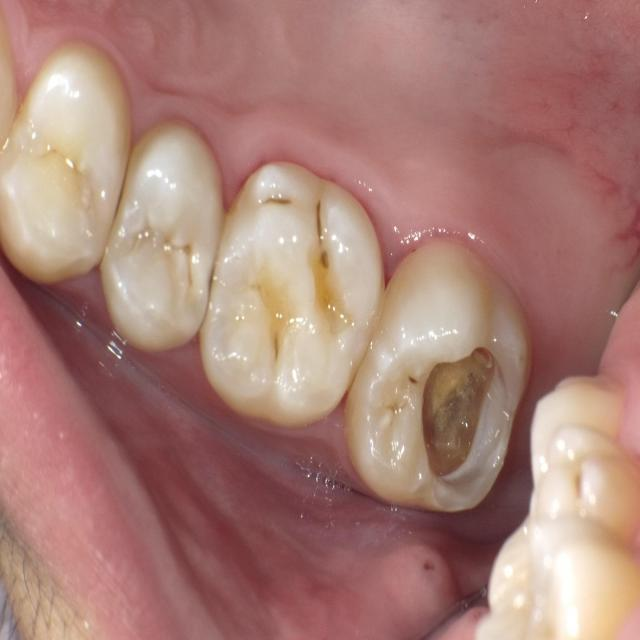caries: (349, 235, 529, 515)
